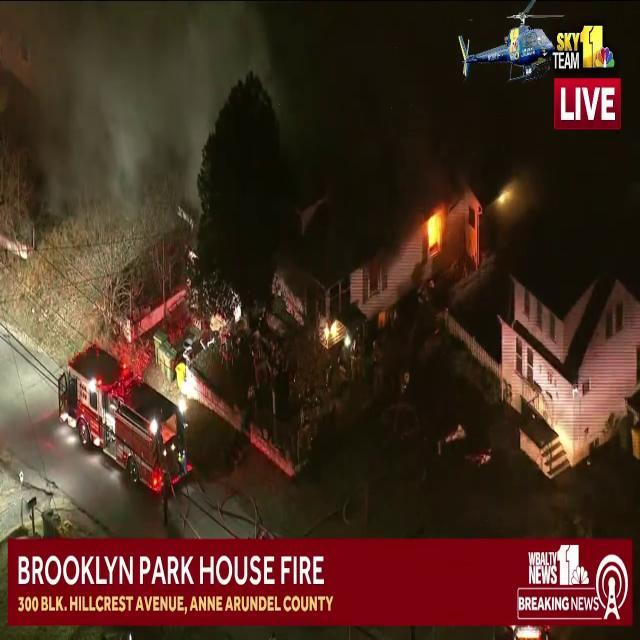Fire: (422, 202, 446, 254)
Smoke: (0, 0, 195, 268)
